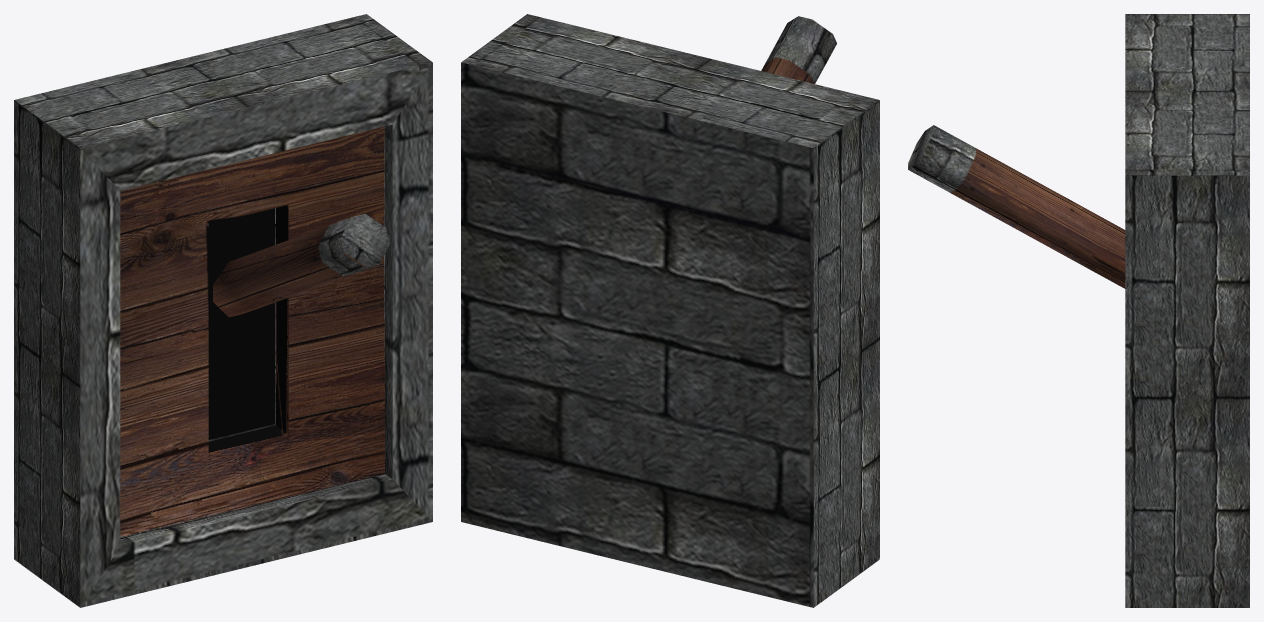
File: palanca.fbx
3 renders of one model, left to right at view 1: azimuth 30°, elevation 25°; view 2: azimuth 150°, elevation 25°; view 3: azimuth 270°, elevation 25°, orthographic. The views are drawn at different scales.
Parts seen in each view (by area): view 1: Cube, Cube.001; view 2: Cube, Cube.001; view 3: Cube, Cube.001.
Boxes of the visible parts, bbox=[...] form: Cube: bbox=[14, 14, 432, 607]; Cube.001: bbox=[213, 214, 389, 317]; Cube: bbox=[461, 14, 879, 607]; Cube.001: bbox=[761, 16, 836, 83]; Cube: bbox=[1125, 14, 1249, 607]; Cube.001: bbox=[908, 125, 1125, 288].
Size of the model in its own units: 0.8257 by 1.03 by 0.7374.
2 materials, 2 textured.
